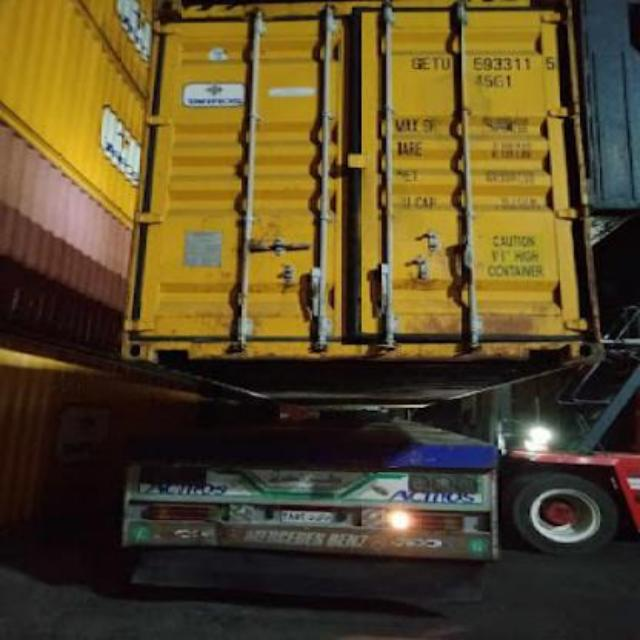1: (522, 55, 534, 71), (514, 56, 524, 70)
3: (504, 58, 514, 72), (494, 56, 502, 72)
5: (472, 56, 484, 72), (546, 56, 556, 68)
9: (484, 56, 494, 70)
E: (421, 54, 434, 70)
G: (412, 56, 422, 68)
T: (432, 54, 442, 70)
U: (442, 56, 450, 70)
